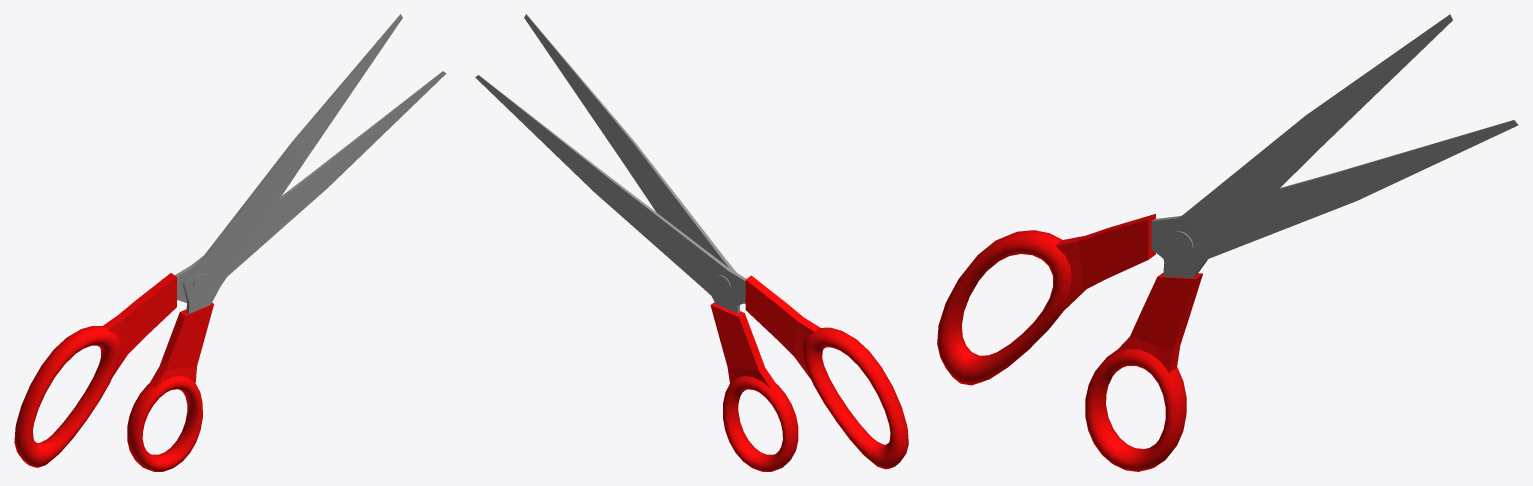
File: N_Scissor.fbx
The picture shows the model from 3 angles, left to right: view 1: azimuth 30°, elevation 25°; view 2: azimuth 150°, elevation 25°; view 3: azimuth 330°, elevation 25°; orthographic projection. The views are drawn at different scales.
Visible parts, largest first — view 1: Torus003; view 2: Torus003; view 3: Torus003.
Part boxes in pixels (x1,y1,x2,y2): Torus003: [14, 14, 446, 471]; Torus003: [475, 14, 908, 471]; Torus003: [937, 14, 1518, 471].
Size of the model in its own units: 24.83 by 21.92 by 1.27.
